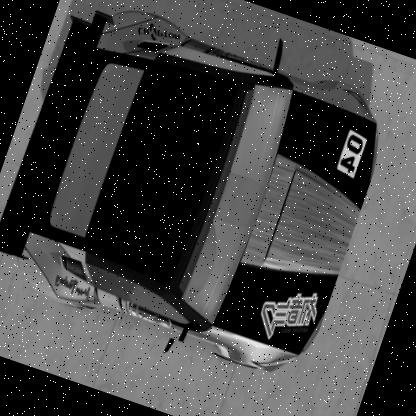Car: (2, 0, 407, 385)
